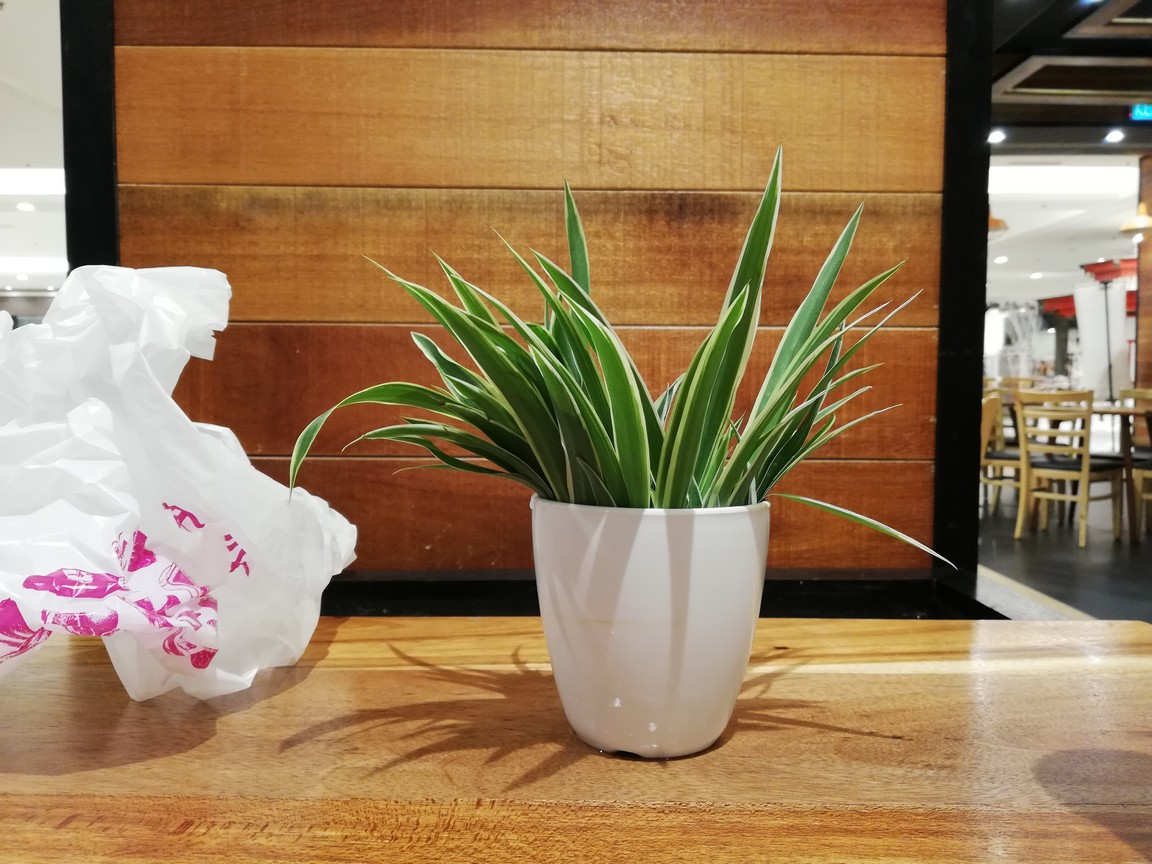daun: (778, 492, 961, 571), (733, 140, 783, 278), (288, 391, 342, 502), (824, 197, 866, 282), (712, 275, 752, 353), (561, 176, 591, 269), (850, 254, 912, 297), (574, 453, 617, 509), (526, 339, 567, 396), (487, 223, 529, 271), (341, 422, 408, 452), (409, 330, 450, 373), (846, 403, 904, 430), (889, 287, 924, 318), (442, 372, 477, 400), (841, 384, 875, 412), (845, 360, 888, 382), (656, 379, 673, 418), (527, 245, 558, 265), (391, 463, 441, 473), (819, 412, 837, 438), (396, 413, 432, 425), (732, 408, 748, 431), (719, 425, 732, 451), (868, 300, 893, 311)
